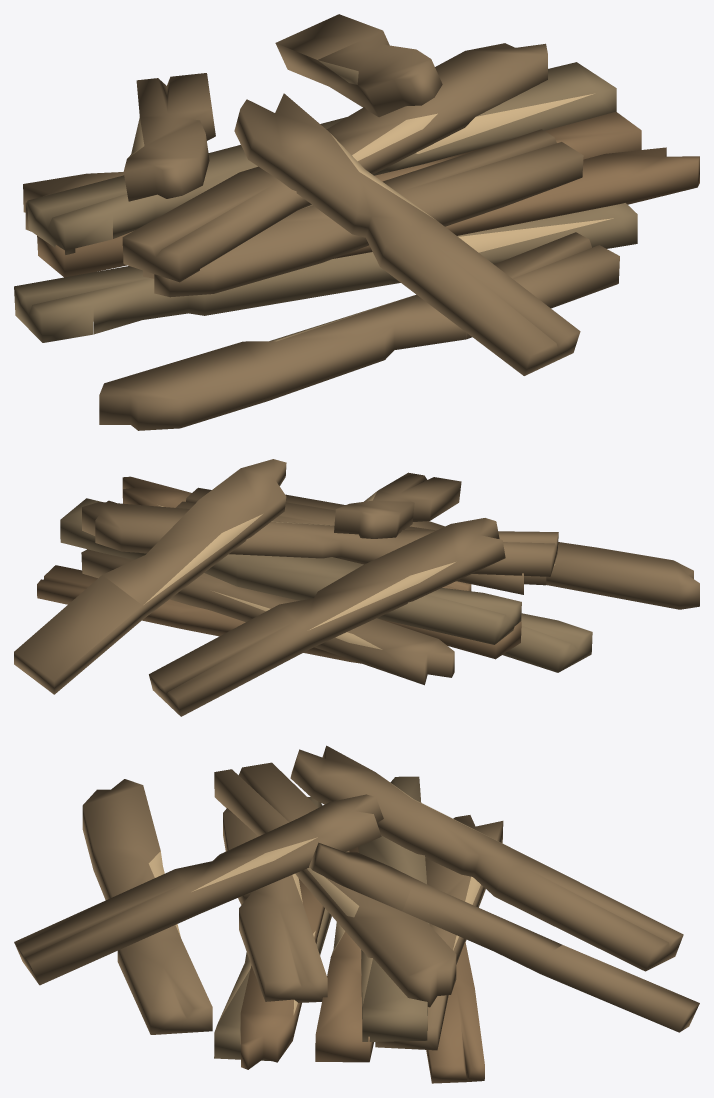
Rendered from rpgpp_av_planks_01c.gltf.
The picture shows the model from 3 angles, top to bottom: view 1: azimuth 30°, elevation 25°; view 2: azimuth 150°, elevation 25°; view 3: azimuth 270°, elevation 25°; orthographic projection. The views are drawn at different scales.
Visible parts, largest first — view 1: rpgpp_av_planks_01c; view 2: rpgpp_av_planks_01c; view 3: rpgpp_av_planks_01c.
Part boxes in pixels (x1,y1,x2,y2): rpgpp_av_planks_01c: (14,14,699,430); rpgpp_av_planks_01c: (14,459,699,716); rpgpp_av_planks_01c: (14,745,699,1083).
Size of the model in its own units: 0.0288 by 0.00689 by 0.0289.
Materials: 1 (1 with a texture image).
